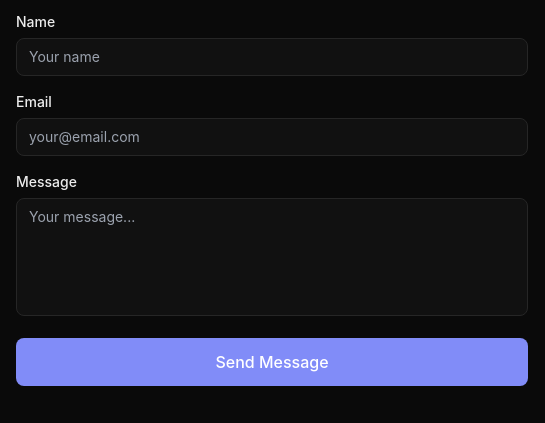
ContactForm › shows email validation error for invalid email
Type "Test" into the field labelled "Name" at point(272, 57), box [16,38,528,76]
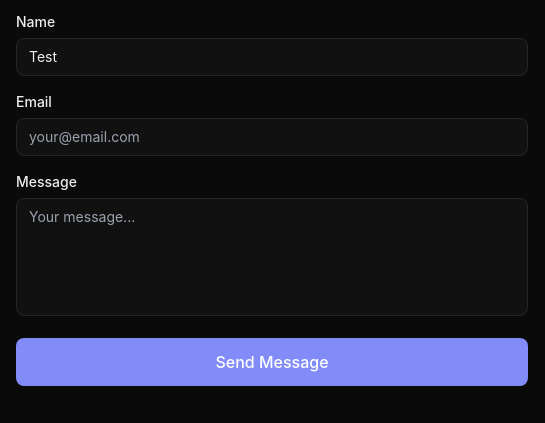
Type "notanemail" into the field labelled "Email" at point(272, 137), box [16,118,528,156]
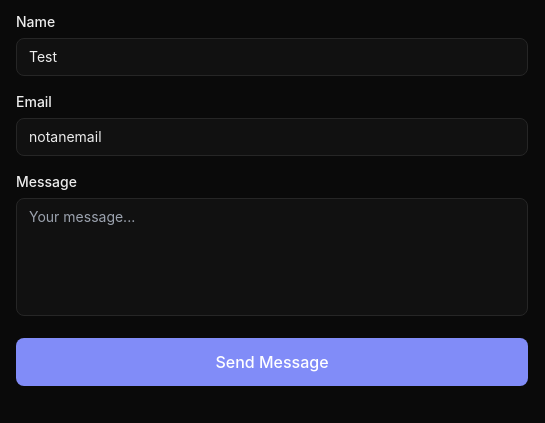
Type "Hello" into the text box labelled "Message" at point(272, 257), box [16,198,528,316]
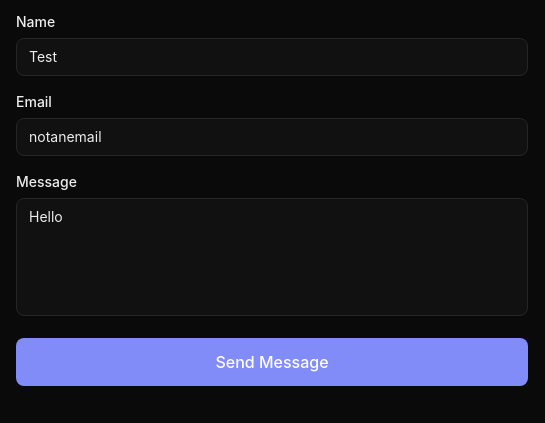
Click the button "Send Message" at point(272, 362), box [16,338,528,386]
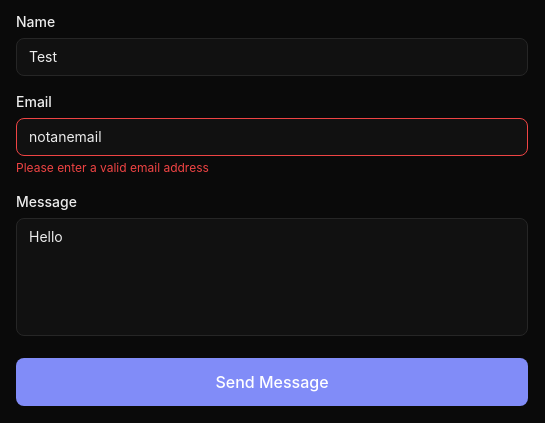
Result: the text "Please enter a valid email address" is shown at [16,160,209,175]
